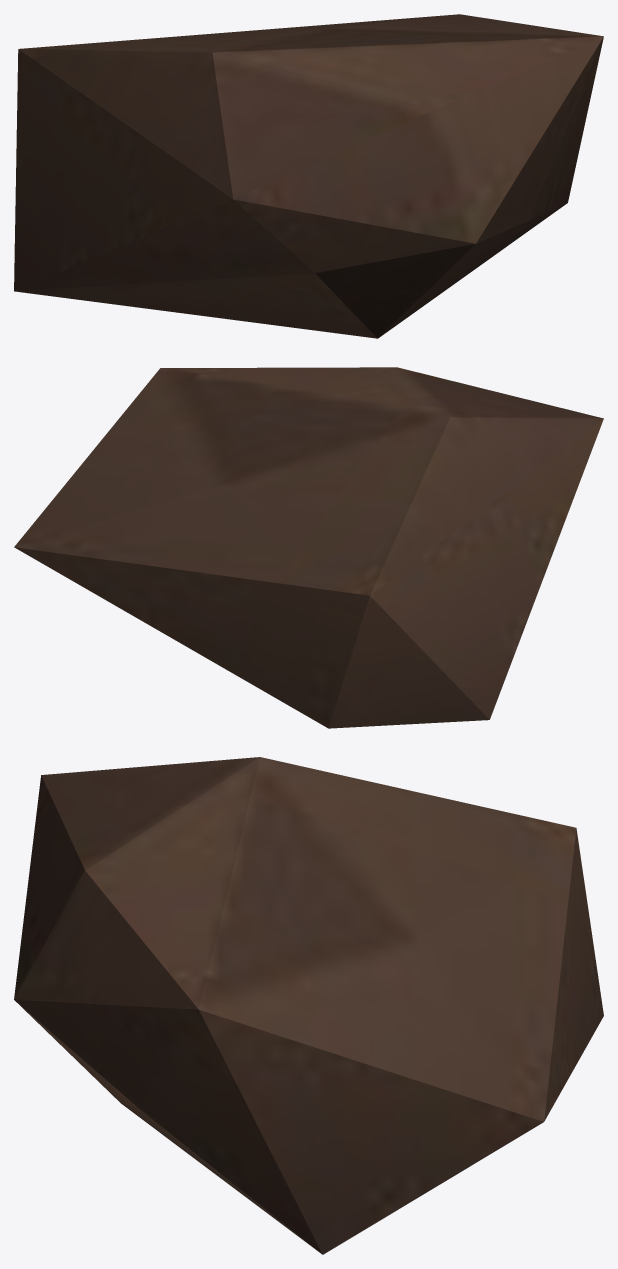
File: landfill.glb
3 views of the same model, one above another, from view 1: azimuth 30°, elevation 25°; view 2: azimuth 150°, elevation 25°; view 3: azimuth 270°, elevation 25° (orthographic). The views are drawn at different scales.
Visible parts, largest first — view 1: landfill; view 2: landfill; view 3: landfill.
Boxes of the visible parts, left/top/right/bottom form: landfill: left=14, top=14, right=603, bottom=338; landfill: left=14, top=367, right=603, bottom=728; landfill: left=14, top=757, right=603, bottom=1254.
Bounding box in the file's own units: 0.24 × 0.12 × 0.22.
Materials: 1 (1 with a texture image).
